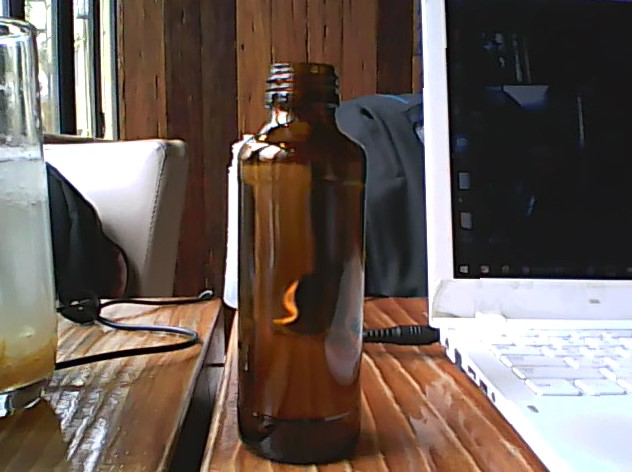Glass: (232, 58, 368, 466)
